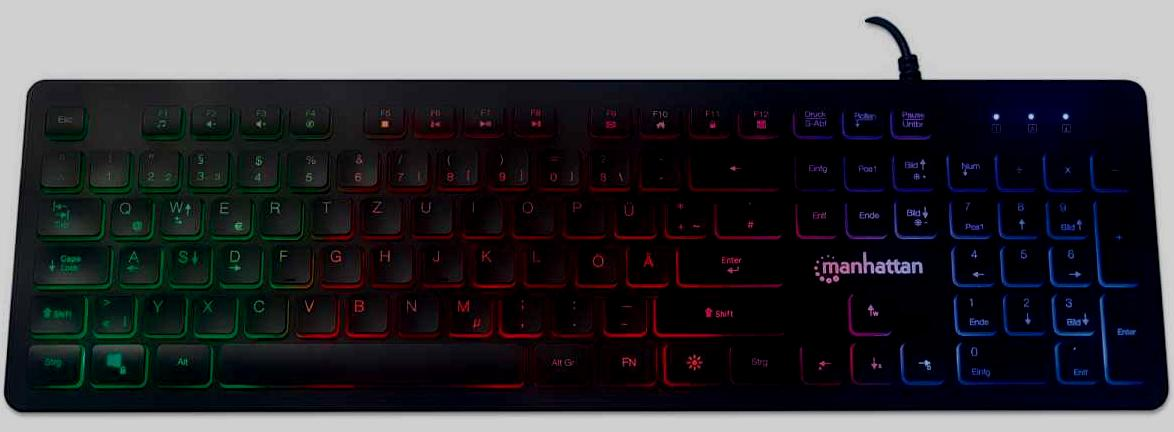0: (535, 144, 579, 187)
1: (86, 145, 128, 186)
2: (135, 146, 178, 186)
3: (184, 145, 226, 186)
4: (235, 145, 277, 185)
5: (284, 145, 328, 186)
6: (335, 145, 377, 185)
7: (385, 141, 426, 186)
8: (434, 138, 476, 186)
9: (483, 142, 528, 186)
a: (114, 240, 157, 283)
accent: (638, 145, 680, 185)
ae: (624, 239, 669, 282)
alt-left: (150, 339, 210, 384)
altgr-right: (529, 337, 589, 384)
b: (340, 286, 386, 331)
c: (239, 288, 285, 333)
caret: (38, 147, 78, 185)
comma: (498, 288, 541, 332)
d: (213, 240, 259, 283)
del: (688, 144, 781, 187)
e: (206, 191, 248, 234)
enter: (674, 237, 783, 283)
f: (268, 241, 308, 282)
g: (316, 241, 359, 281)
h: (366, 239, 410, 282)
hash: (714, 191, 784, 236)
i: (460, 192, 501, 233)
j: (418, 239, 461, 282)
k: (470, 240, 512, 282)
keyboard: (1, 75, 1169, 413)
l: (521, 239, 563, 282)
less: (86, 289, 132, 333)
m: (443, 287, 489, 333)
minus: (601, 288, 644, 331)
n: (395, 289, 437, 331)
o: (509, 192, 553, 234)
oe: (572, 239, 616, 282)
p: (560, 191, 604, 233)
plus: (663, 191, 707, 236)
point: (551, 288, 592, 330)
q: (105, 193, 150, 235)
r: (254, 192, 299, 234)
s: (165, 240, 208, 284)
shift-left: (26, 289, 82, 333)
shift-lock: (29, 241, 108, 284)
shift-right: (650, 285, 785, 334)
space: (213, 337, 524, 385)
ss: (586, 145, 628, 186)
strg-left: (22, 340, 79, 384)
strg-right: (726, 337, 790, 383)
t: (307, 193, 349, 233)
tab: (32, 192, 99, 235)
u: (409, 191, 451, 234)
ue: (612, 192, 654, 234)
v: (290, 288, 335, 332)
w: (157, 191, 199, 234)
x: (189, 289, 233, 333)
y: (137, 289, 183, 332)
z: (357, 191, 401, 233)
